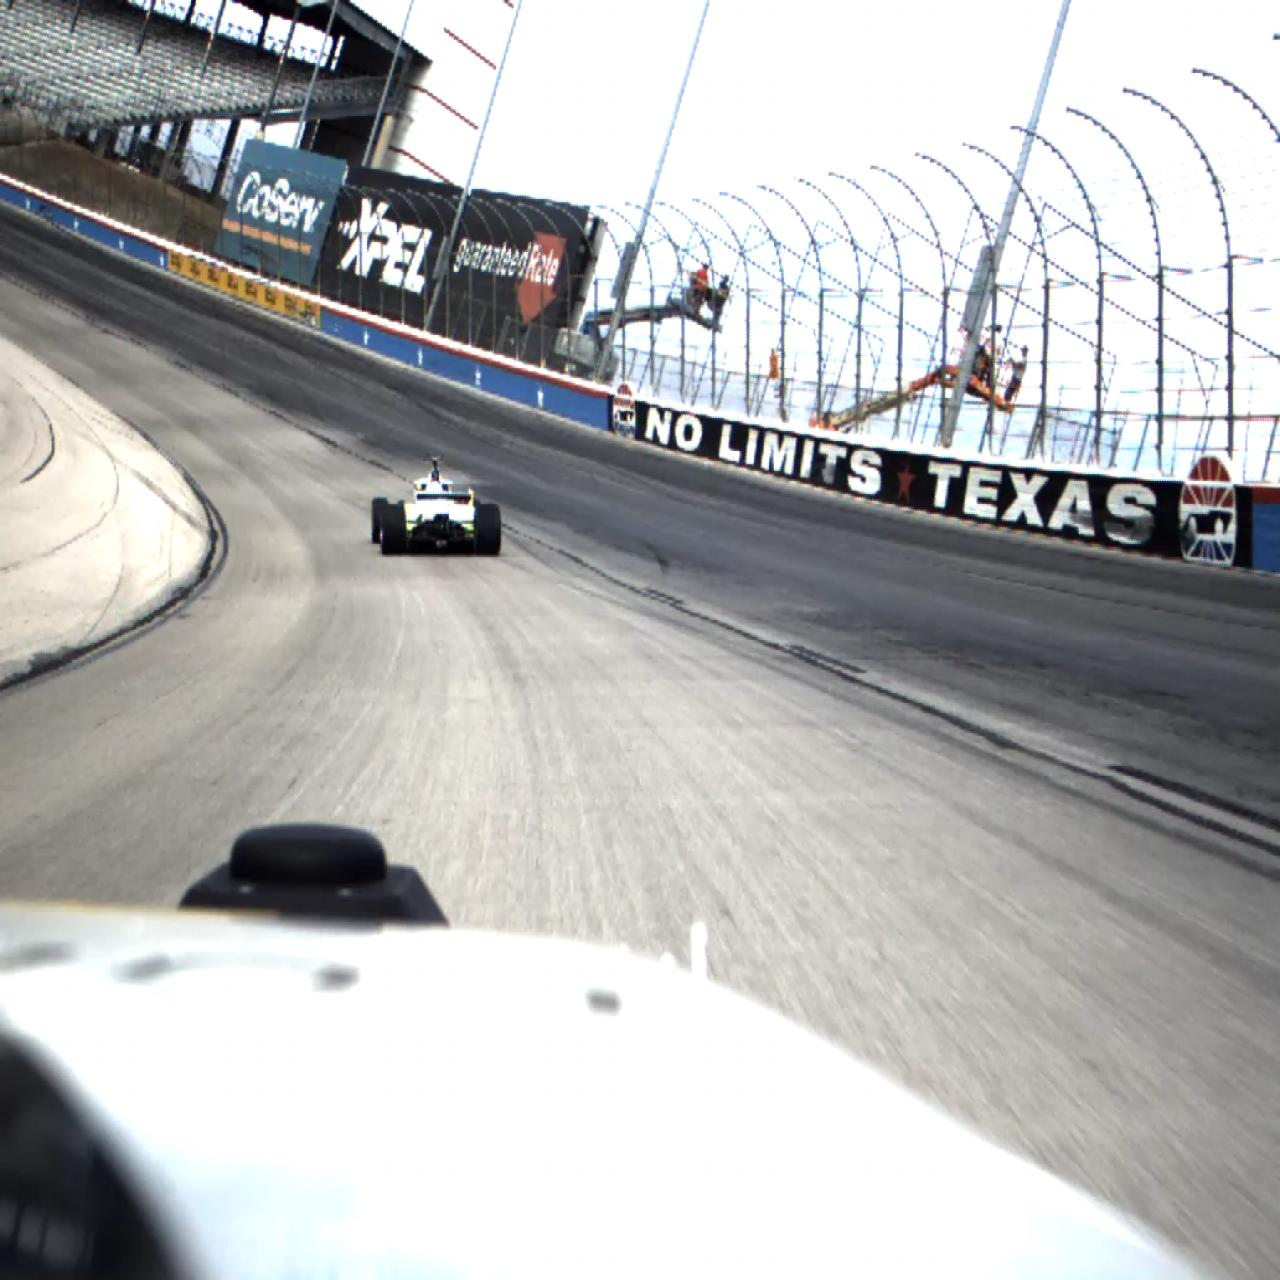AV: (372, 455, 502, 557)
Wheel: (380, 503, 407, 556), (476, 504, 502, 557), (372, 497, 389, 544)
